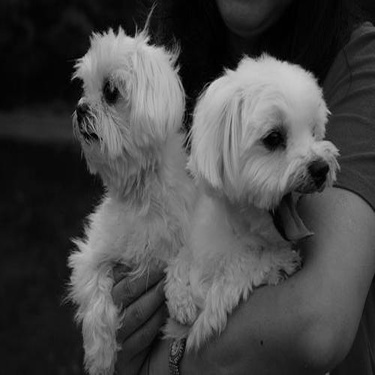dog: (42, 19, 223, 370), (171, 44, 348, 374)
